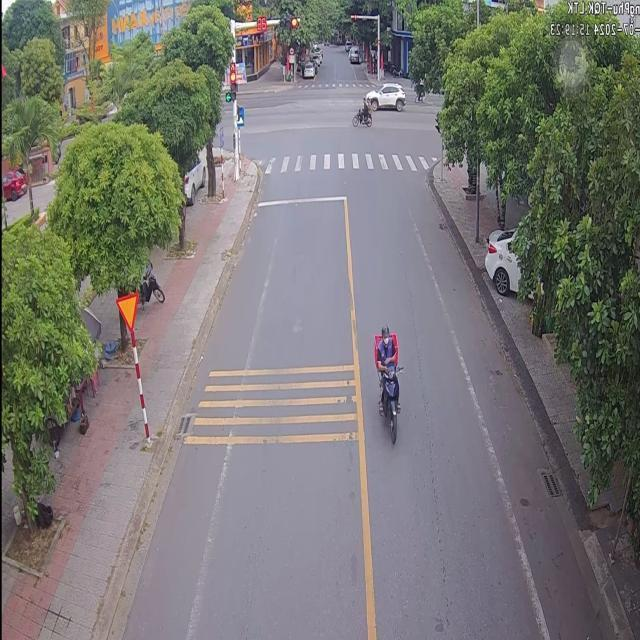car: (483, 227, 519, 293), (364, 81, 404, 109), (300, 59, 314, 77)
motobike: (373, 324, 400, 441), (350, 96, 370, 125)
red_light: (277, 16, 298, 27), (230, 61, 235, 98), (257, 15, 265, 31)
stop_line: (256, 195, 344, 204)
